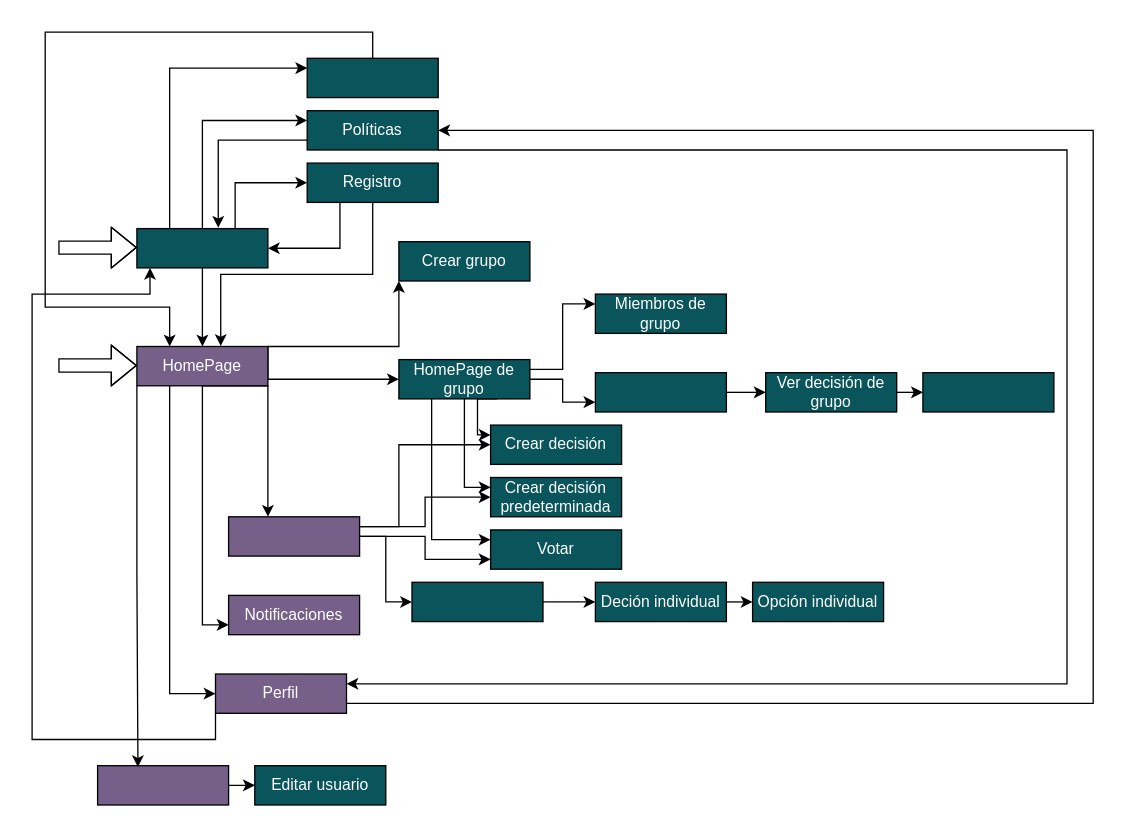
The diagram is 1127 pixels wide and 828 high, and some of its shapes have lost their labels. The centre of each missing label's shape, as x and y in pixels:
"Historial de grupo" belongs at (660,391).
"Historial individual" belongs at (477,601).
"Lista de usuarios" belongs at (162,784).
"Login" belongs at (202,247).
"Modo individual" belongs at (293,535).
"Recuperar Contraseña" belongs at (372,77).
"Ver opción de grupo" belongs at (988,391).
